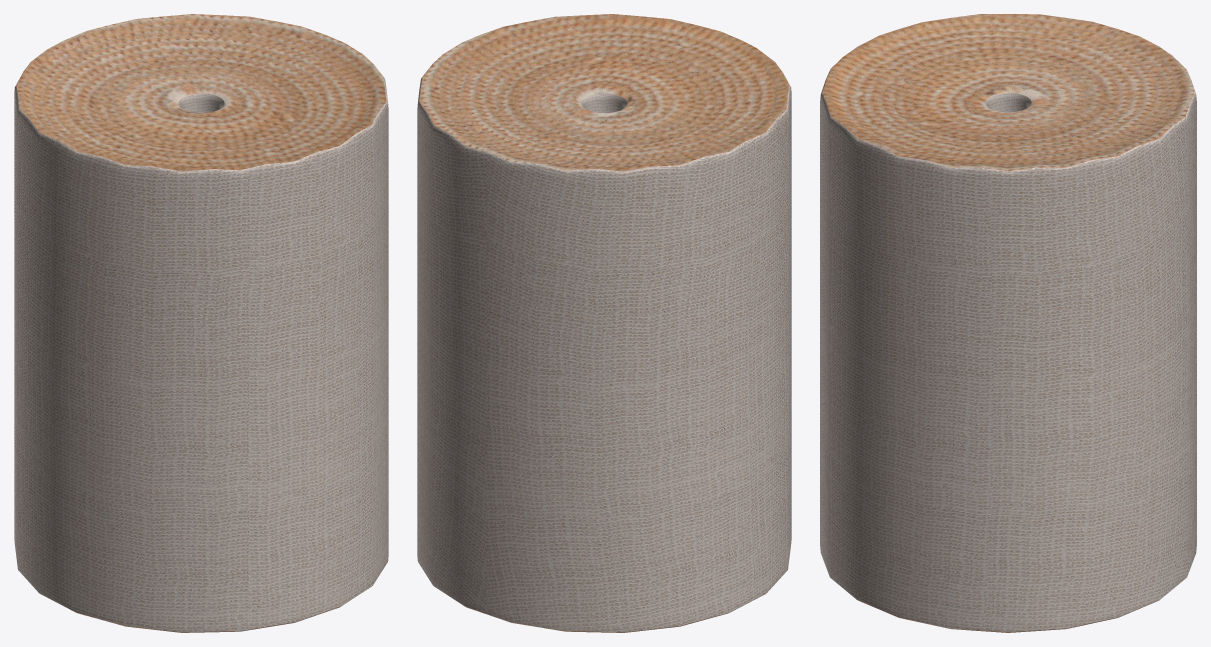
File: perban.glb
3 renders of one model, left to right at view 1: azimuth 30°, elevation 25°; view 2: azimuth 150°, elevation 25°; view 3: azimuth 270°, elevation 25°, orthographic.
Visible parts, largest first — view 1: bandageroll; view 2: bandageroll; view 3: bandageroll.
Part boxes in pixels (x1,y1,x2,y2): bandageroll: (14, 14, 388, 632); bandageroll: (417, 14, 791, 632); bandageroll: (820, 14, 1196, 632).
Bounding box in the file's own units: 5.84 × 7.93 × 5.84.
Materials: 1 (1 with a texture image).
